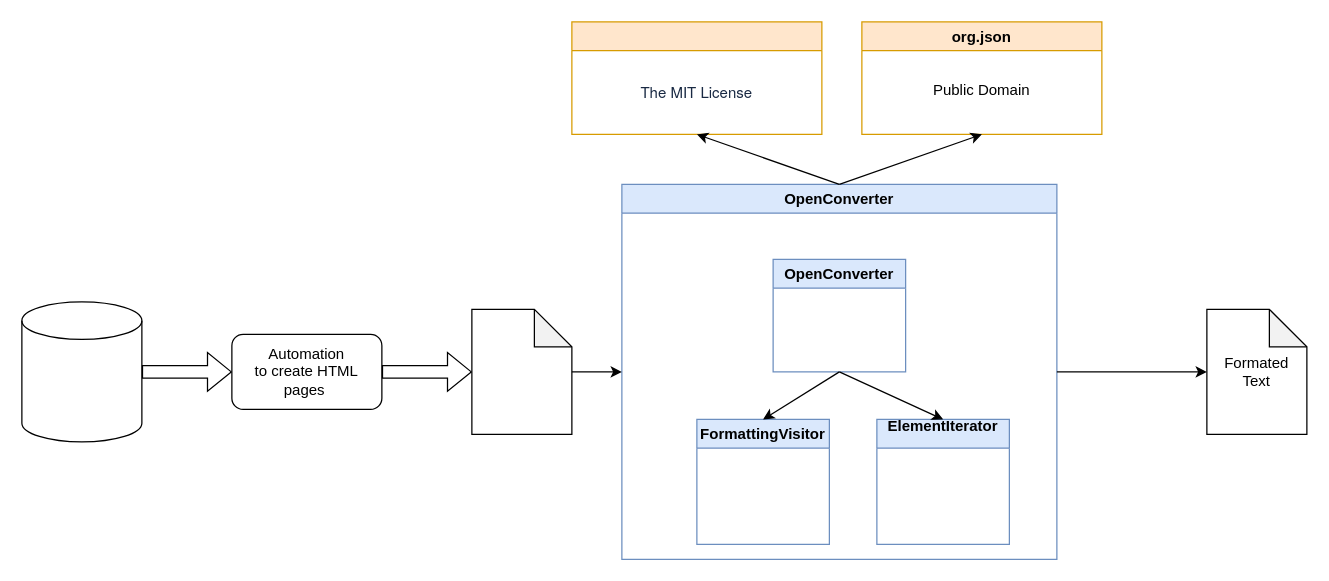
Some shapes in this 1329 by 581 pixel diagram are drawn without their labels. Each missing label, with the box of its shape:
Data: (21, 301, 142, 442)
HTML: (471, 308, 572, 434)
org.jsoup: (571, 21, 822, 134)
